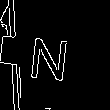N_N: (33, 28, 77, 82)
